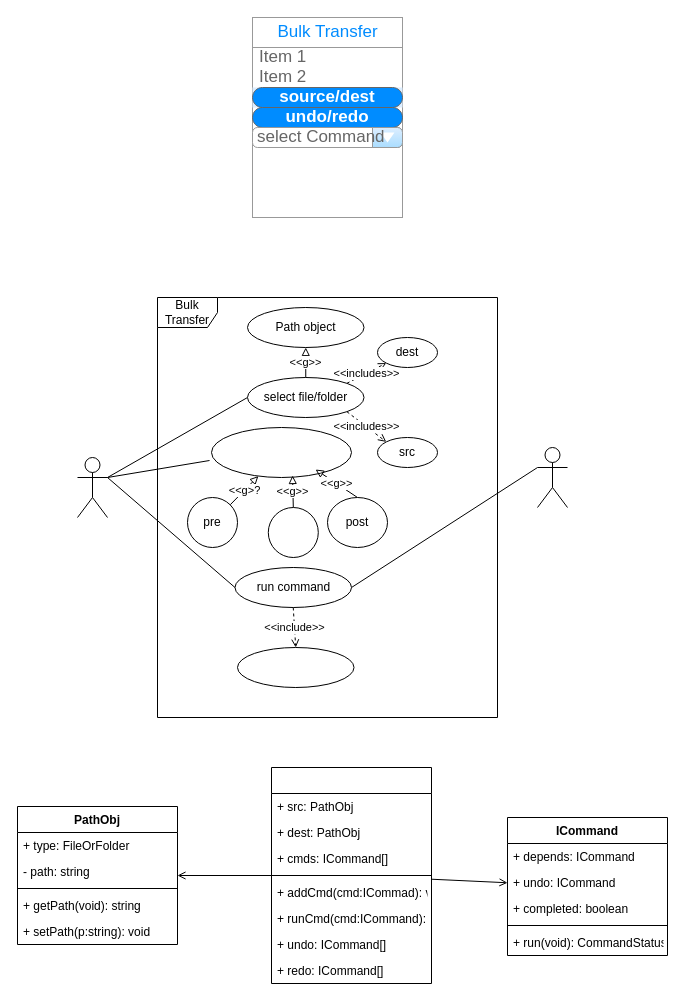
Image size: 685x1004. Some labels were removed from this diagram. Each missing label, with the box of its shape:
BulkTransfer: (270, 766, 432, 984)
IN: (267, 506, 318, 558)
order execution: (236, 646, 354, 688)
select commands: (210, 426, 352, 478)
System: (536, 446, 568, 508)
User: (76, 456, 108, 518)
